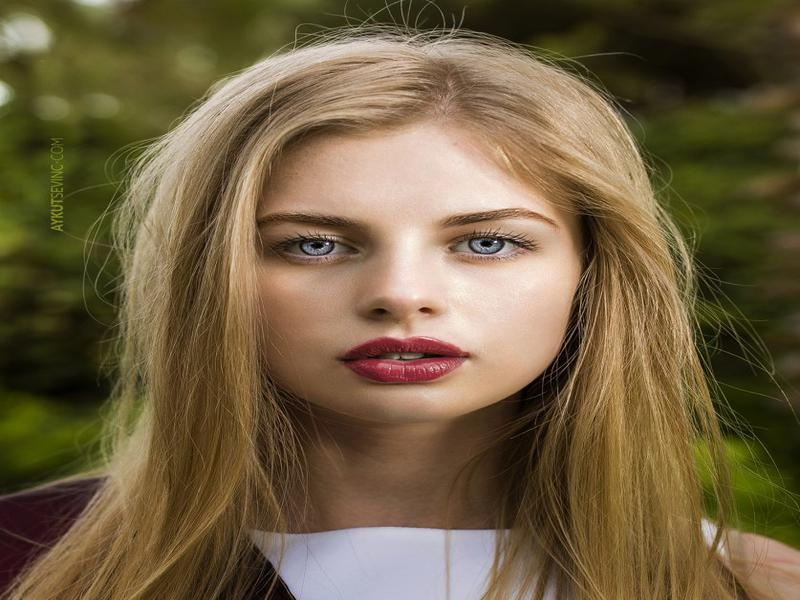human: (5, 35, 799, 600)
